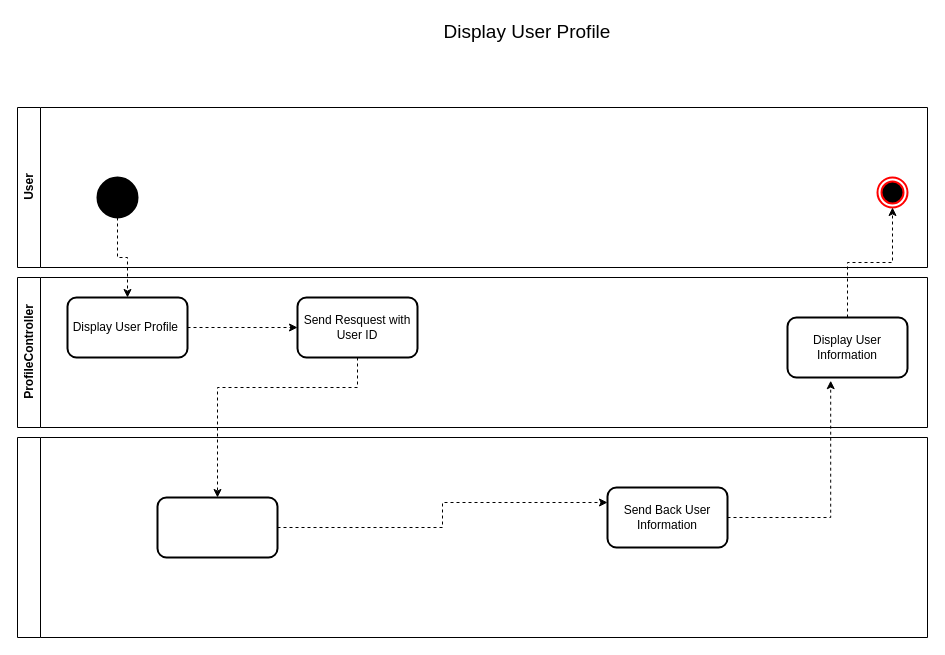
Some shapes in this 945 by 655 pixel diagram are drawn without their labels. Each missing label, with the box of its shape:
Query User Information: (156, 496, 278, 558)
User choose User Profile: (96, 176, 138, 218)
UserController: (16, 436, 928, 638)
